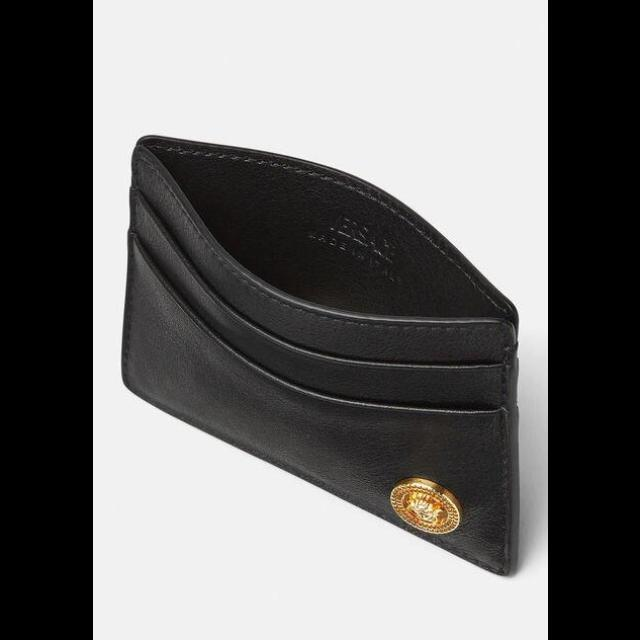wallet: (120, 134, 514, 576)
